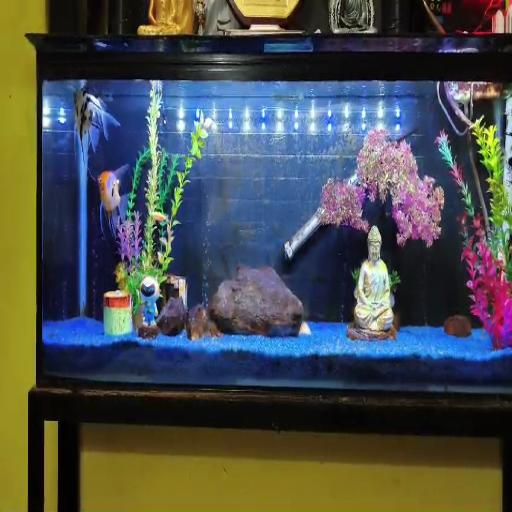Fish: (74, 87, 120, 162), (98, 164, 130, 237), (153, 212, 168, 221)
